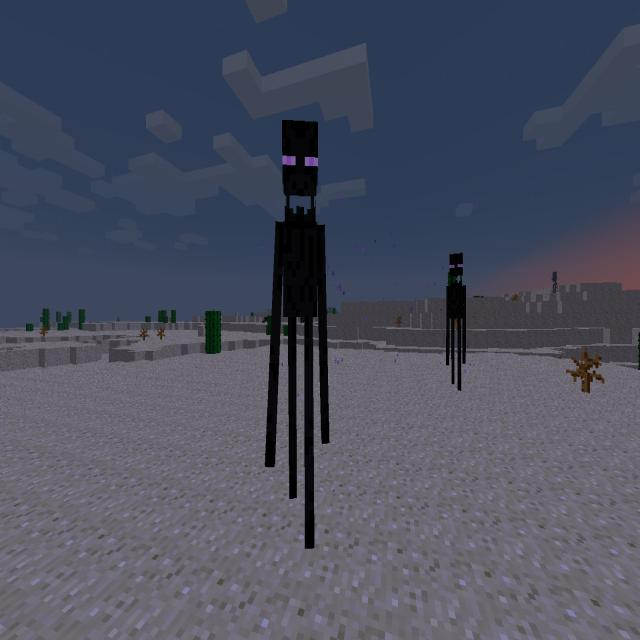Enderman: (263, 114, 331, 558), (442, 246, 468, 393)
